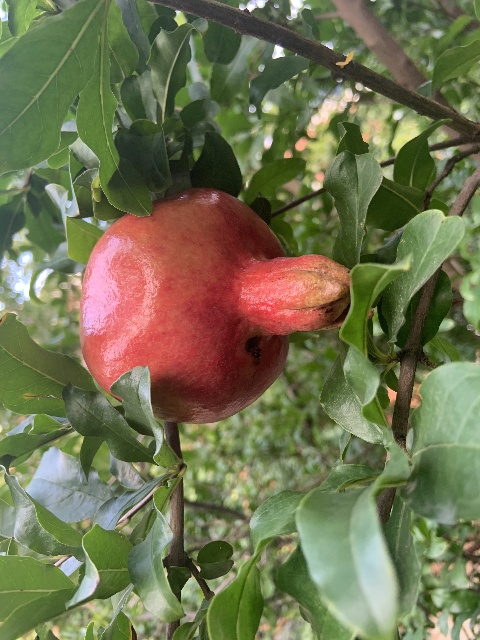ripe: (78, 188, 349, 424)
